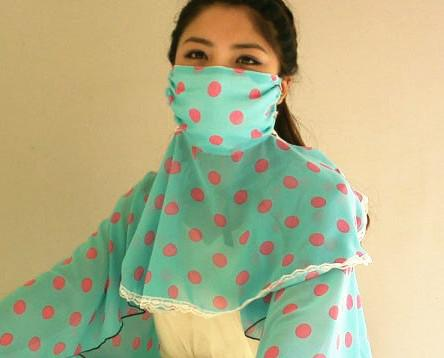OK: (175, 29, 284, 145)
